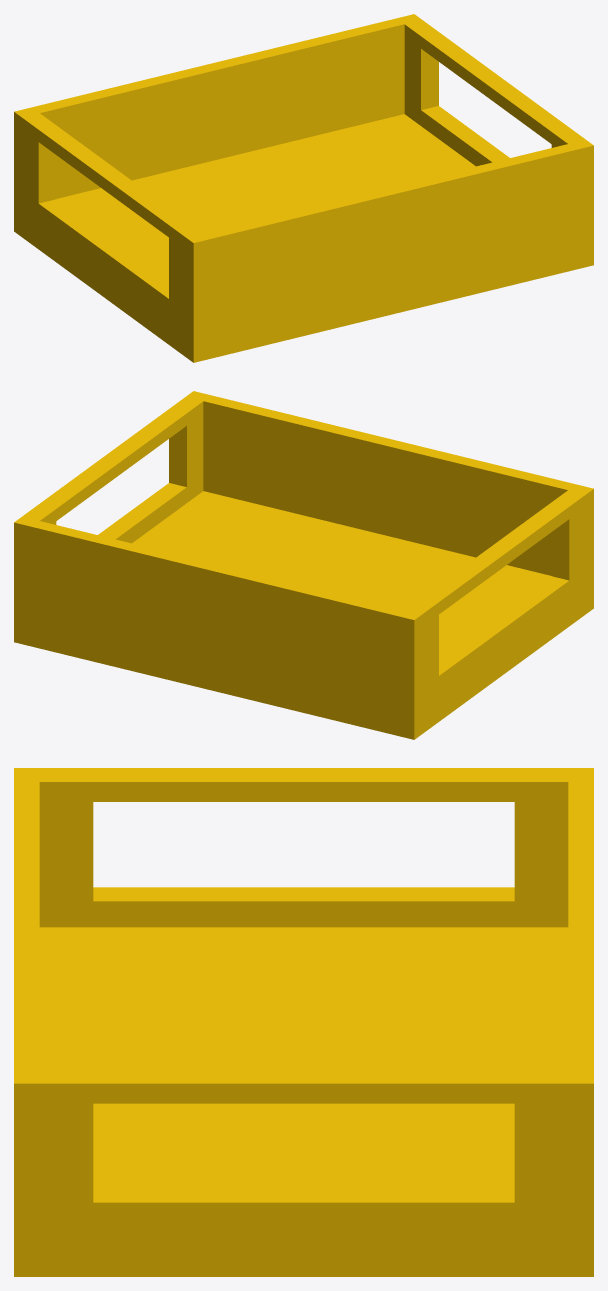
The model's file is room walls.glb.
3 renders of one model, top to bottom at view 1: azimuth 30°, elevation 25°; view 2: azimuth 150°, elevation 25°; view 3: azimuth 270°, elevation 25°, orthographic. The views are drawn at different scales.
Visible parts, largest first — view 1: Cube; view 2: Cube; view 3: Cube.
Part boxes in pixels (x1,y1,x2,y2): Cube: (14,14,593,362); Cube: (14,391,593,739); Cube: (14,768,593,1276).
Bounding box in the file's own units: 59.08 × 16.89 × 45.91.
